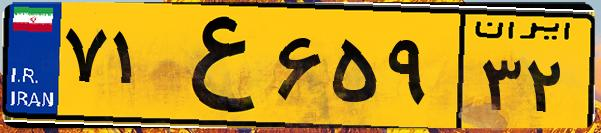1: (110, 28, 158, 98)
2: (525, 38, 570, 115)
3: (475, 38, 525, 113)
5: (330, 28, 385, 110)
6: (270, 28, 330, 110)
7: (57, 26, 110, 100)
9: (385, 28, 445, 110)
ع: (158, 12, 270, 120)
